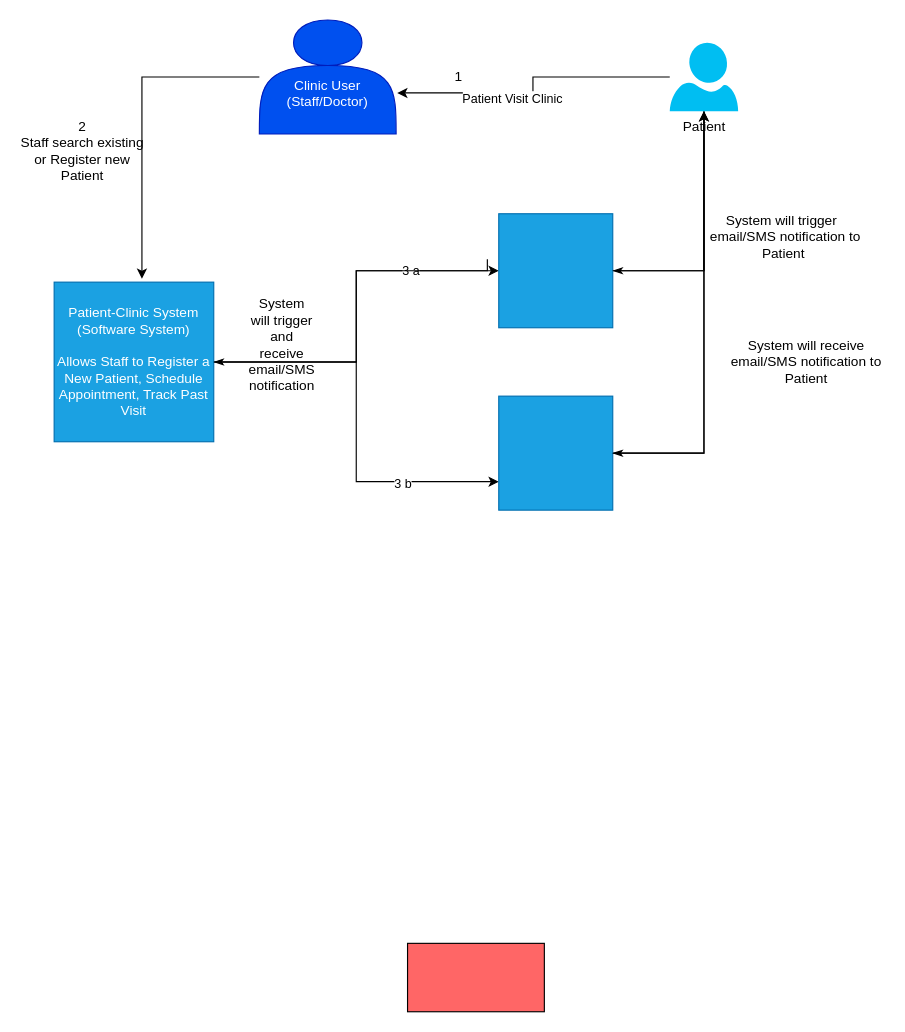
Image size: 905x1032. Some labels were removed from this diagram. The shapes that lost their labels are listed below. From the top down, each one's centre as x and y in pixels, then its label:
the point at 555,270: Email-System [Software System] 3rd Party e-mail Exchange System.
the point at 555,452: SMS-System [Software System] 3rd Party SMS Exchange System.
